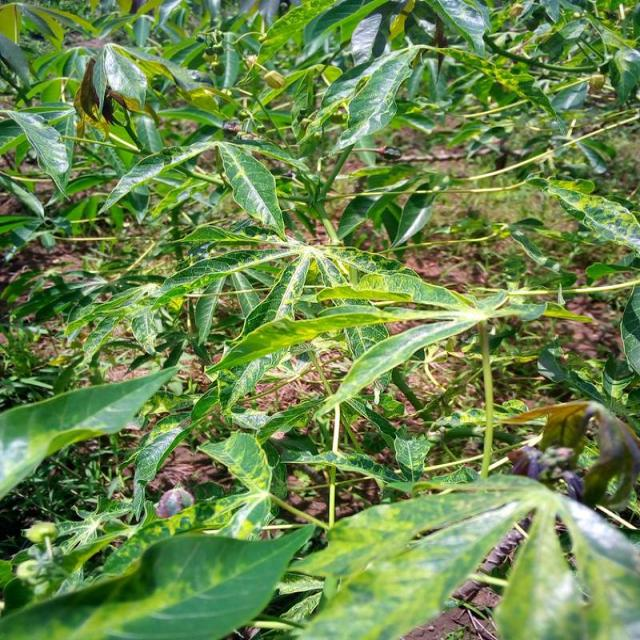cassava leaf: (1, 0, 638, 638), (0, 518, 315, 638), (0, 363, 181, 500)
